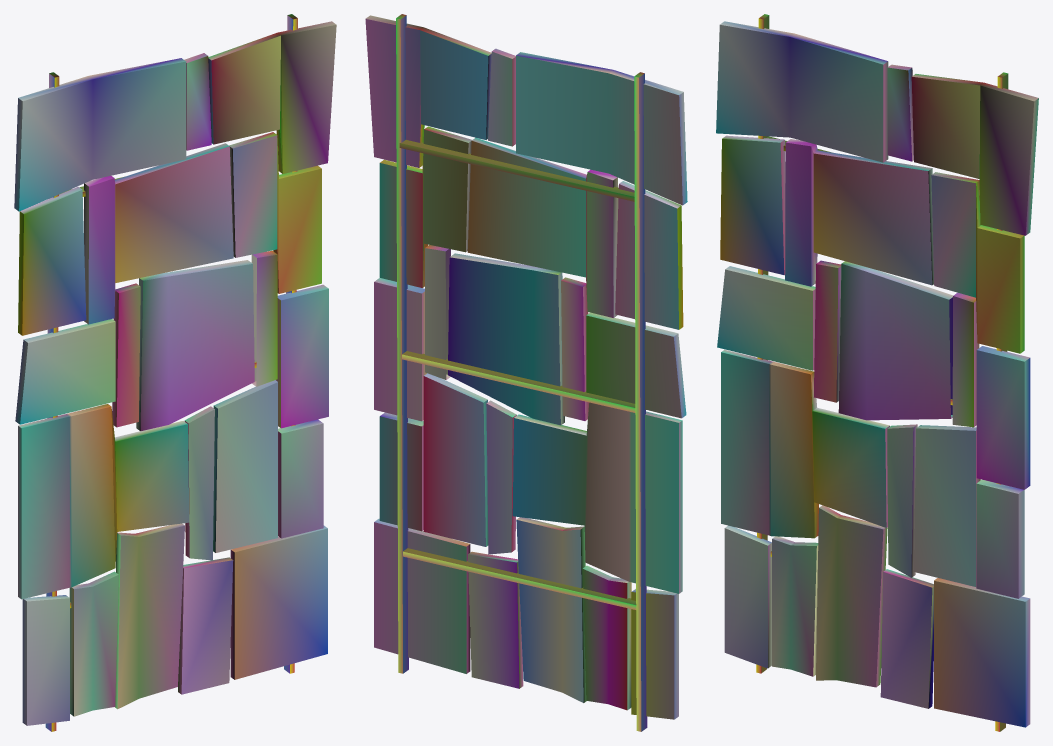
The model's file is Dock_Wide_StraightA.glb.
3 views of the same model, side by side, from view 1: azimuth 30°, elevation 25°; view 2: azimuth 150°, elevation 25°; view 3: azimuth 330°, elevation 25° (orthographic).
Visible parts, largest first — view 1: MeshNode_0; view 2: MeshNode_0; view 3: MeshNode_0.
Part boxes in pixels (x1=…): MeshNode_0: x1=14, y1=14, x2=336, y2=731; MeshNode_0: x1=365, y1=14, x2=687, y2=731; MeshNode_0: x1=716, y1=14, x2=1038, y2=731.
Bounding box in the file's own units: 33.29 × 65.51 × 2.03.
